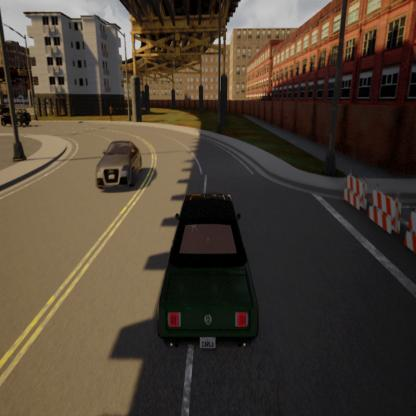Cars: (152, 177, 271, 363), (90, 129, 150, 207), (0, 100, 33, 132)
